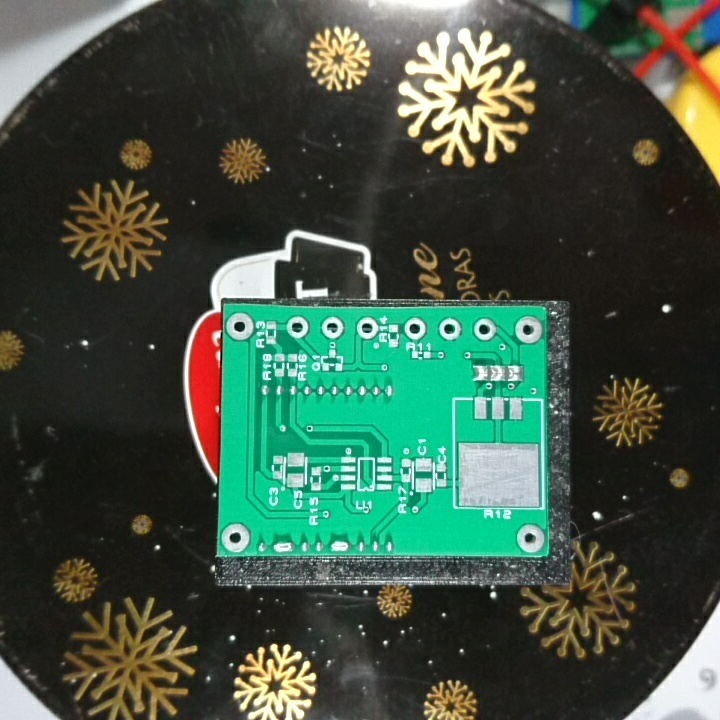F: (514, 522, 546, 555), (220, 520, 253, 552), (514, 314, 543, 348), (225, 311, 253, 343), (436, 315, 462, 343), (284, 314, 310, 341), (472, 316, 497, 344), (403, 315, 427, 344), (319, 315, 345, 341), (355, 316, 378, 342)
P: (271, 538, 297, 555), (328, 538, 351, 555)
